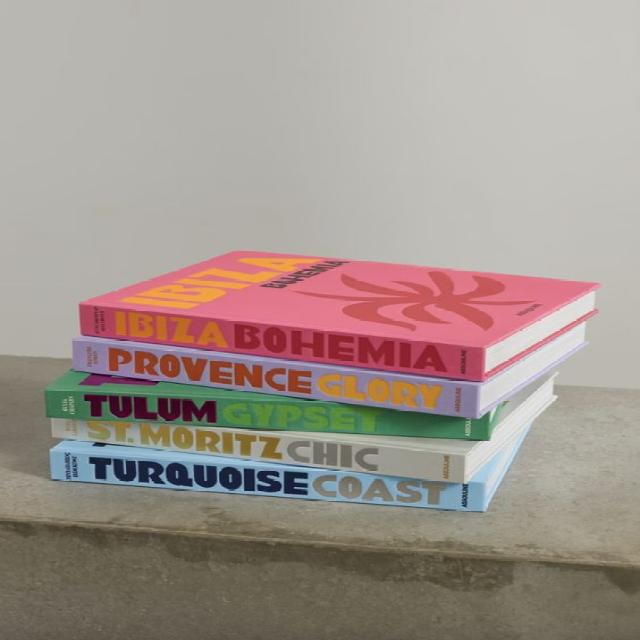book: (74, 338, 482, 418), (83, 302, 484, 380), (51, 417, 464, 484), (51, 450, 481, 512), (44, 388, 490, 441)
